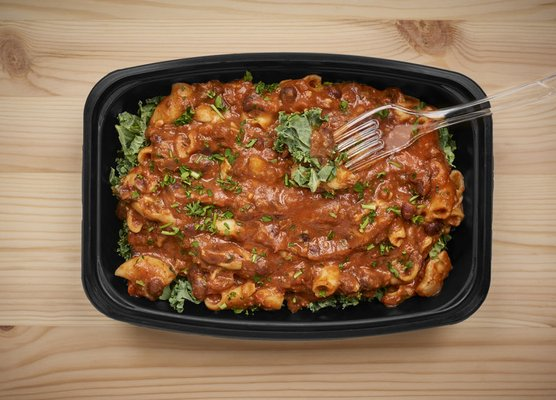burger: (333, 99, 488, 174)
curry: (113, 108, 148, 179)
sushi: (79, 45, 511, 346)
